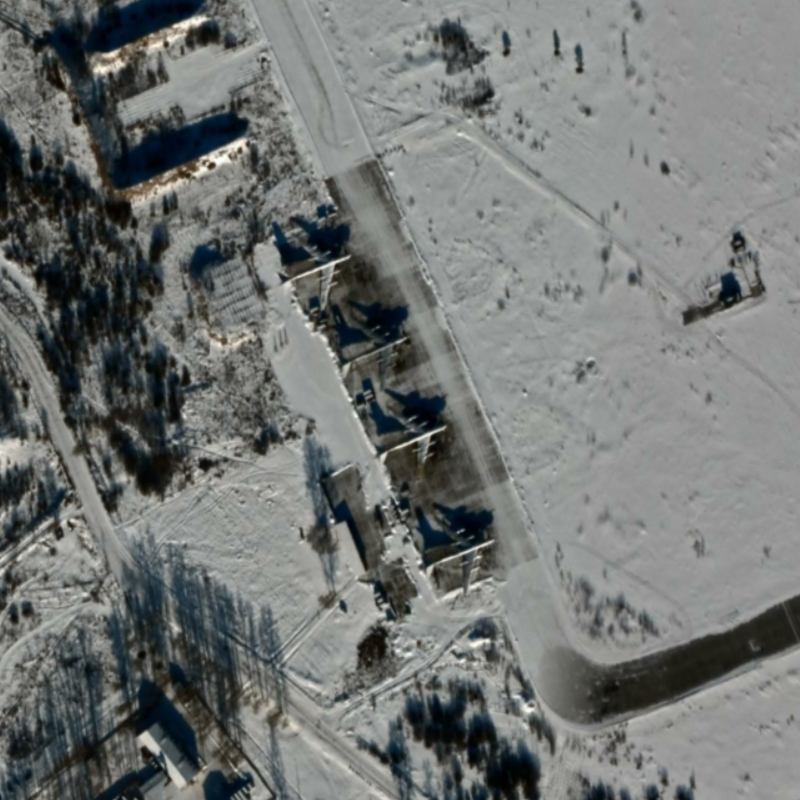A17: (417, 514, 498, 600), (272, 231, 354, 313), (333, 314, 413, 393), (371, 408, 450, 484)
